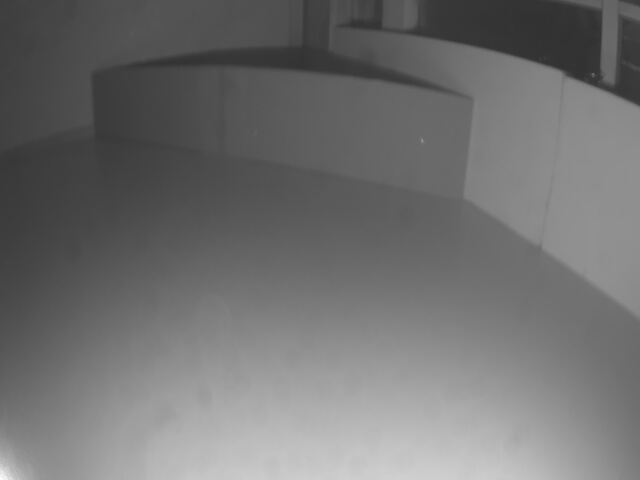Point: (90, 69, 476, 196)
